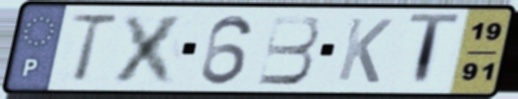6: (198, 12, 255, 87)
B: (255, 13, 323, 87)
K: (333, 15, 396, 86)
T: (405, 11, 464, 91), (66, 11, 122, 84)
X: (107, 11, 192, 86)
